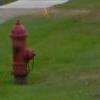Hydrant: (6, 9, 42, 92)
